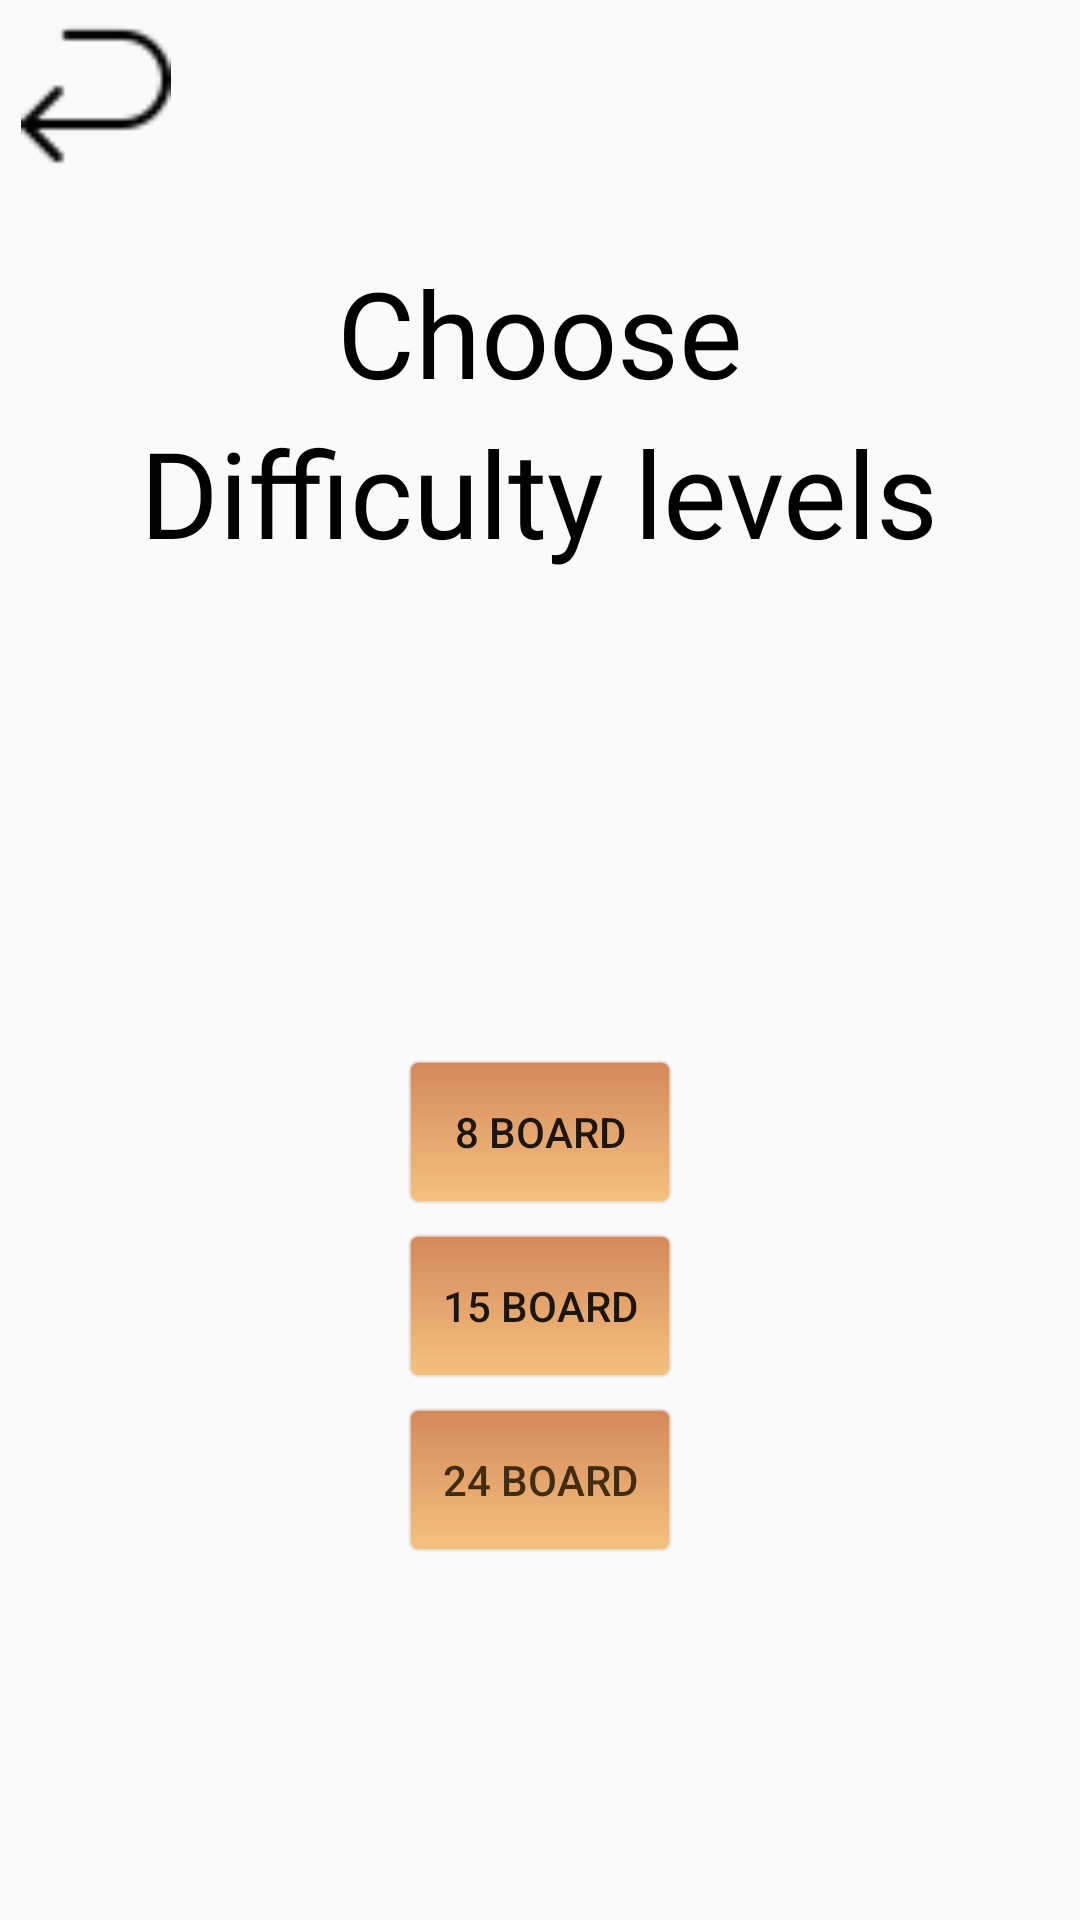

Locate icon controls on the screen. Image size 1080px x 1920px, boxes as (x1, y1, x2, y2).
back: (21, 28, 171, 164)
